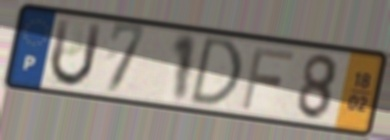1: (168, 33, 197, 106)
7: (98, 21, 148, 100)
8: (295, 51, 340, 123)
D: (186, 34, 244, 109)
F: (238, 44, 297, 112)
U: (47, 16, 106, 90)
